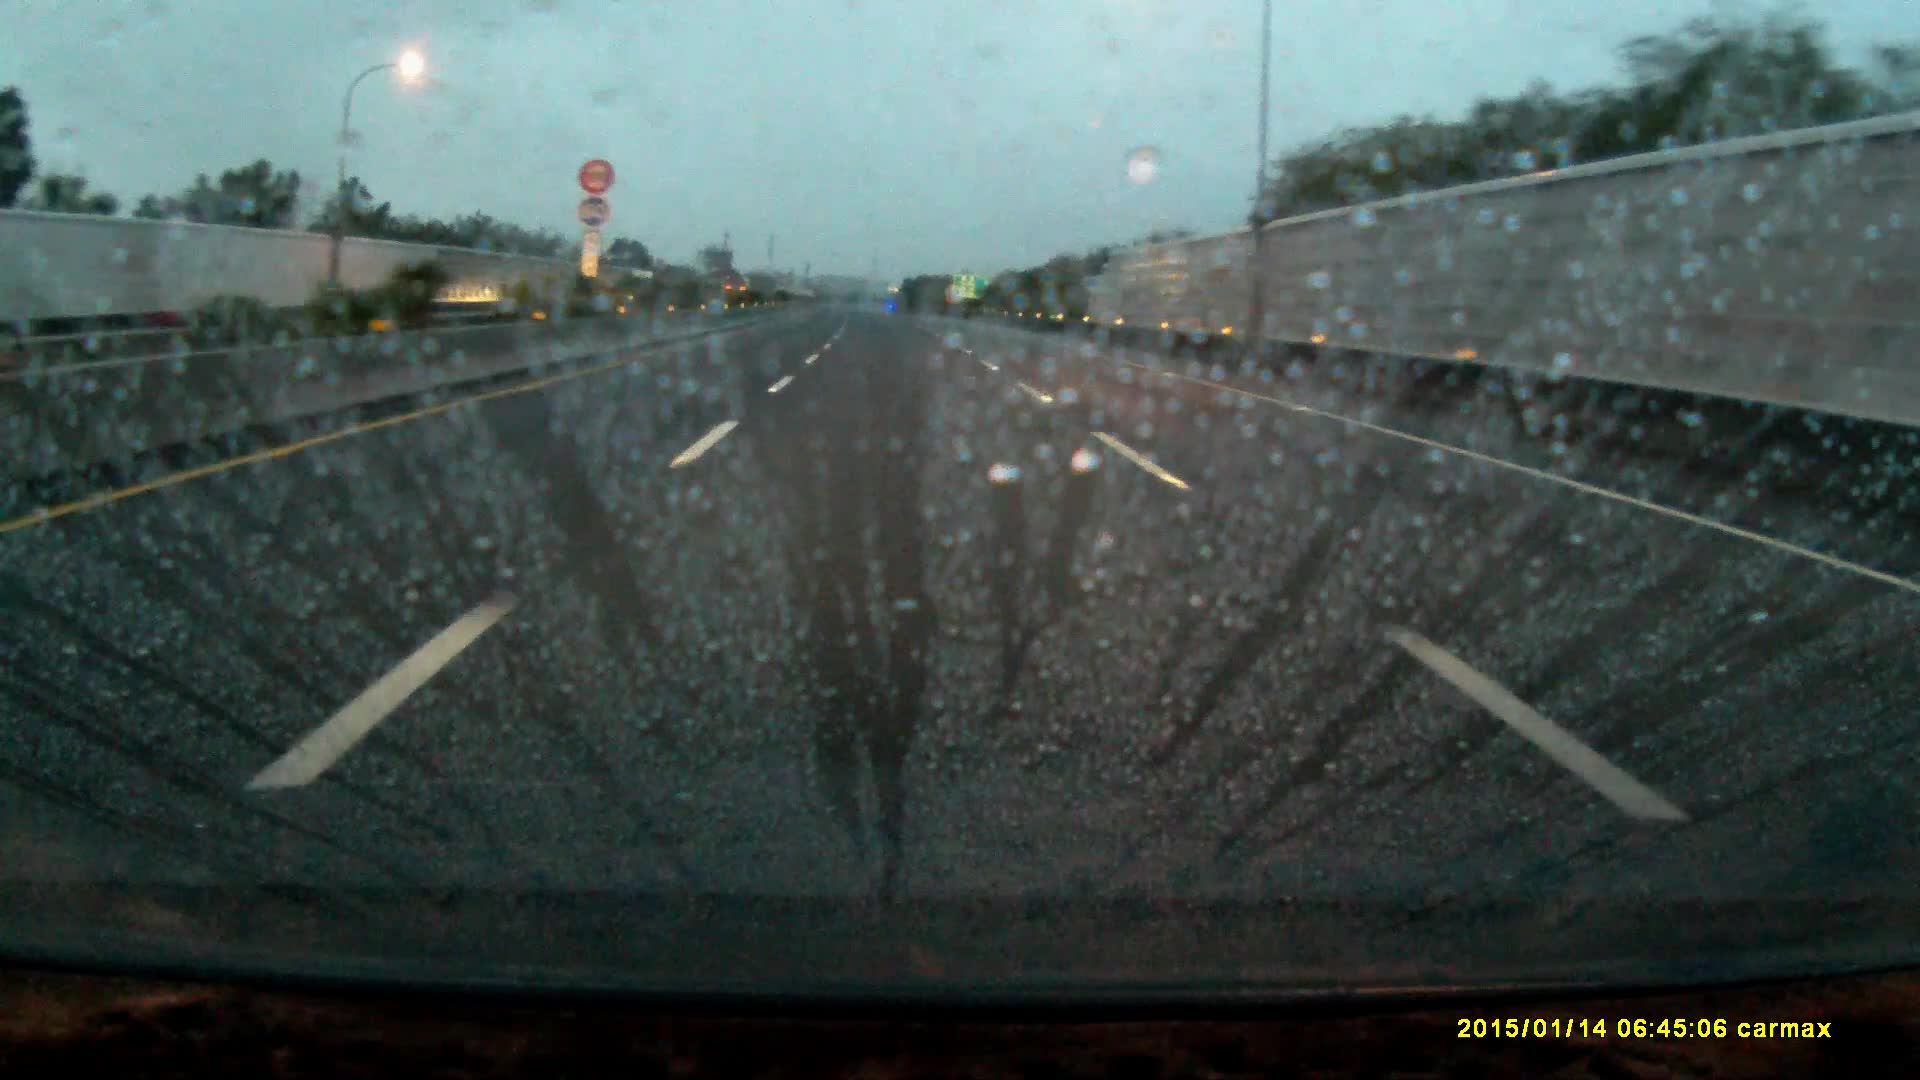vehicle: (725, 284, 754, 309)
